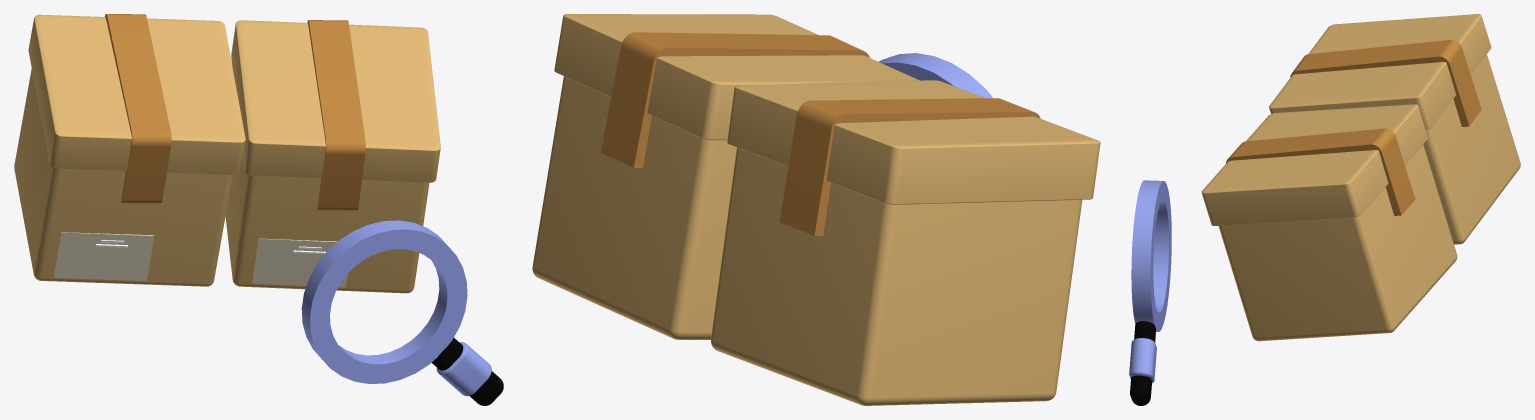
The picture shows the model from 3 angles, left to right: view 1: azimuth 30°, elevation 25°; view 2: azimuth 150°, elevation 25°; view 3: azimuth 270°, elevation 25°; orthographic projection. The views are drawn at different scales.
Visible parts, largest first — view 1: Cube.370; view 2: Cube.370; view 3: Cube.370.
Part boxes in pixels (box(x1,y1,x2,y2)): Cube.370: box(14, 14, 503, 405); Cube.370: box(532, 14, 1100, 405); Cube.370: box(1129, 14, 1520, 405).
Size of the model in its own units: 0.9786 by 0.7701 by 0.9814.
